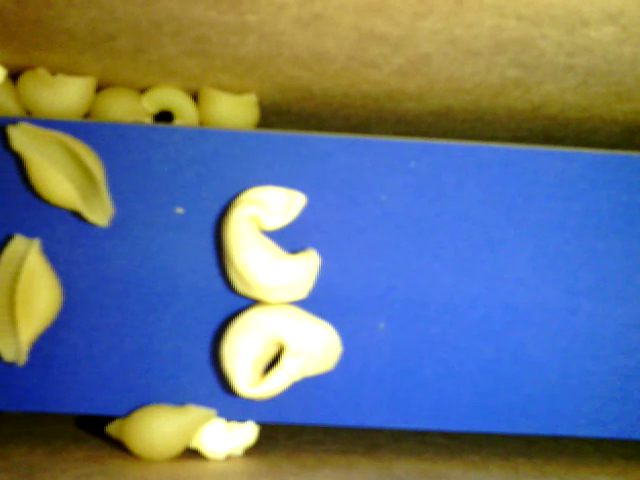elbow: (144, 86, 201, 125)
shell: (6, 120, 114, 226), (1, 229, 64, 363), (105, 403, 219, 461), (14, 69, 99, 123), (196, 83, 263, 128), (91, 85, 160, 125)
tortellini: (217, 298, 346, 400), (217, 184, 321, 308)
